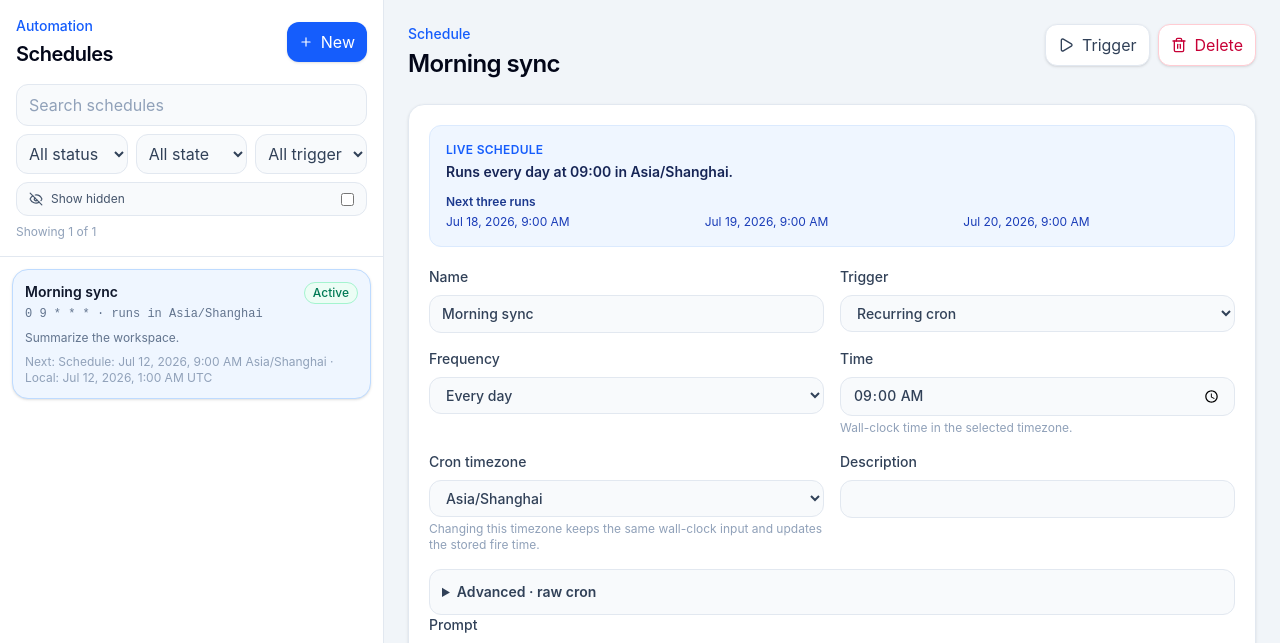
it: SchedulesPage › warns that deleting a dirty schedule discards its edits
Click the button "Morning sync" at (71, 292), box [12,269,371,399]
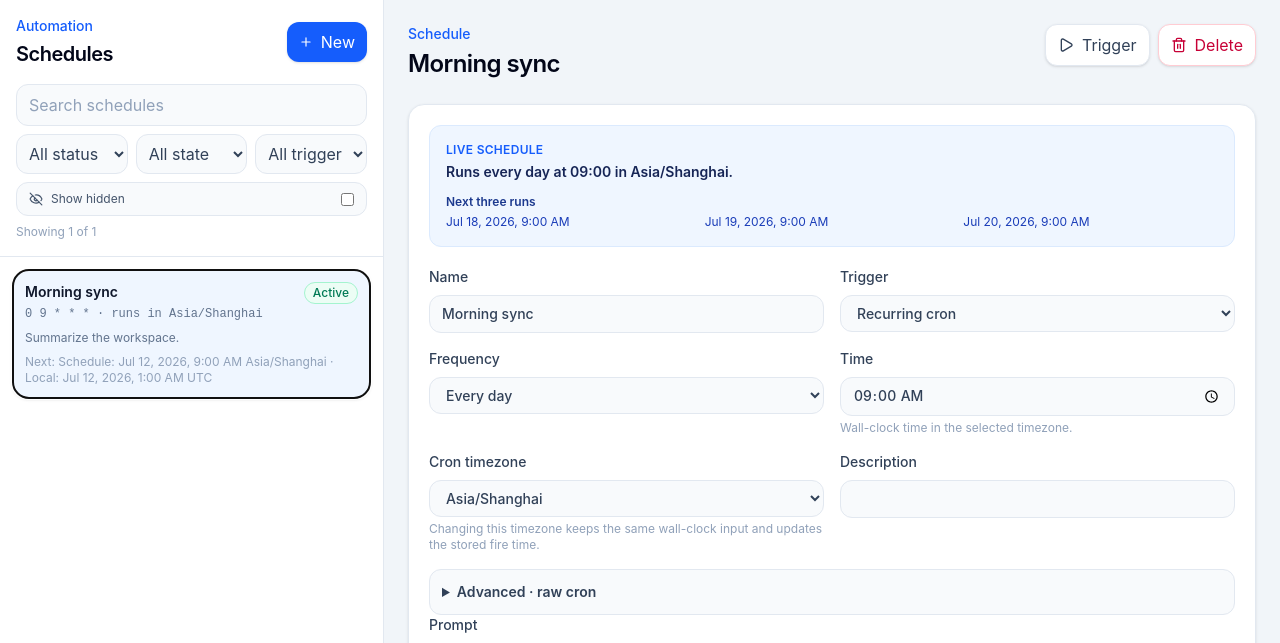
Type "Unsaved detail" into the field labelled "Description" at (1038, 499), box [840,480,1235,518]
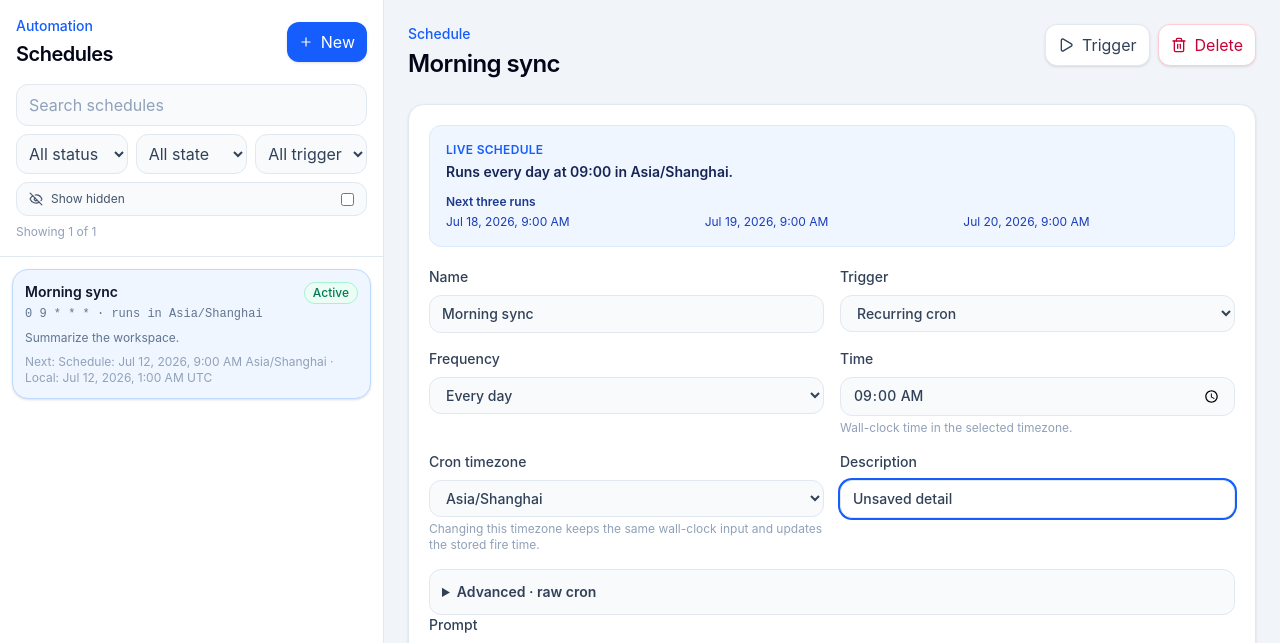
Click the button "Delete" at (1207, 45), box [1158,24,1256,66]
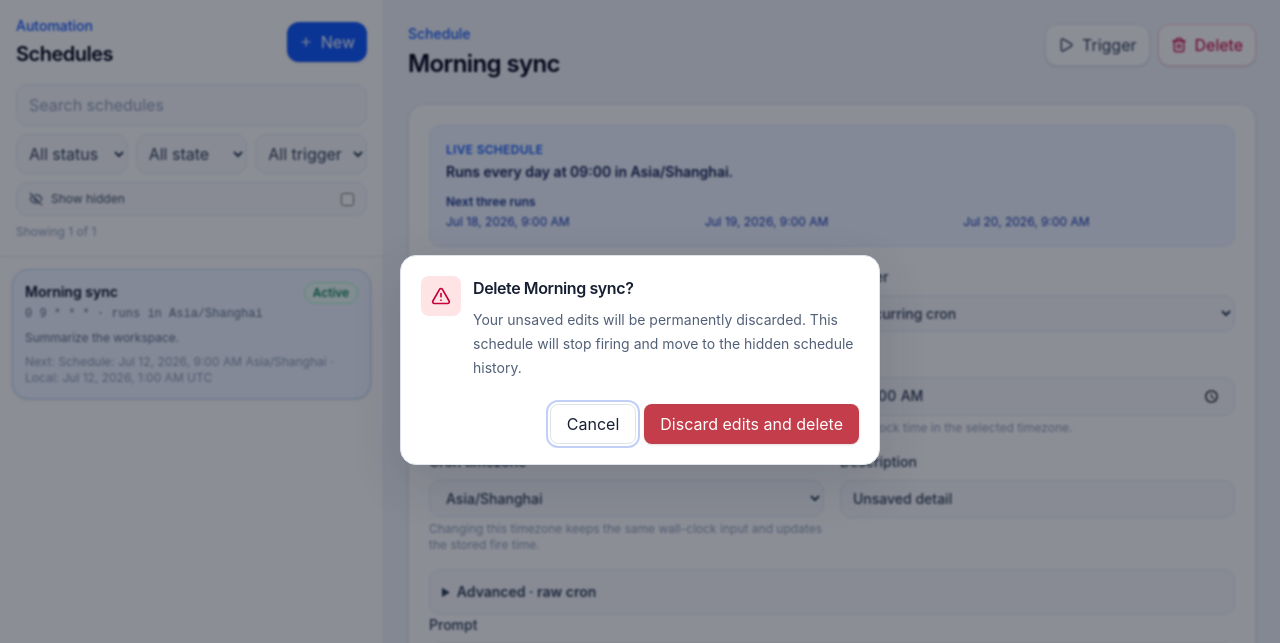
Check: the dialog shows "unsaved edits will be permanently discarded", box [473,311,854,376]
Check: the button "Discard edits and delete" is shown, box [644,404,859,444]
